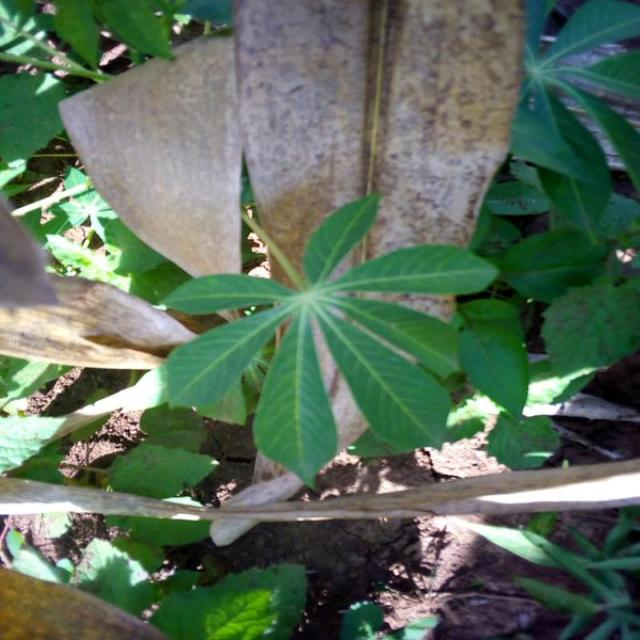cassava leaf: (159, 190, 500, 489)
